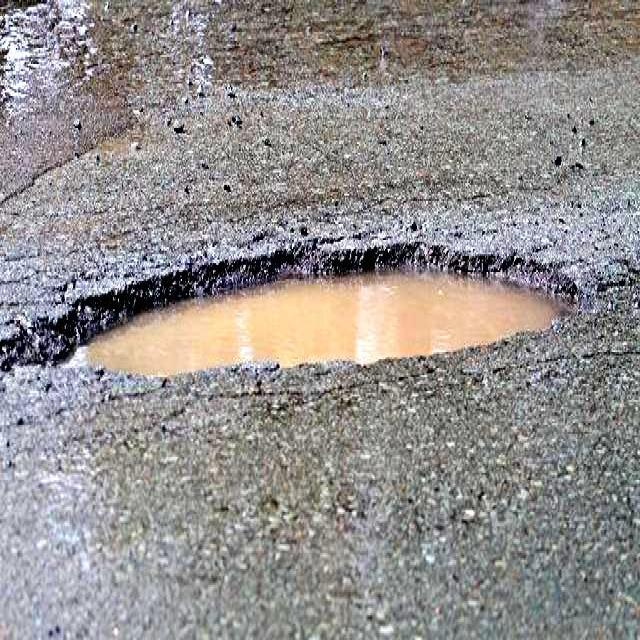pothole: (56, 232, 580, 408)
